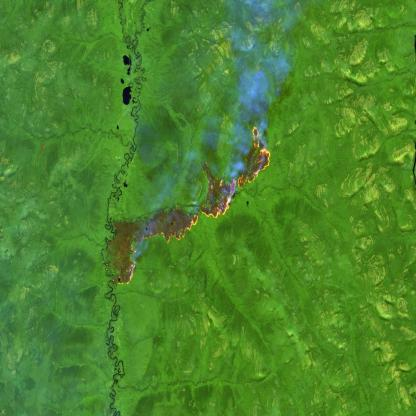fire: (113, 123, 274, 289)
